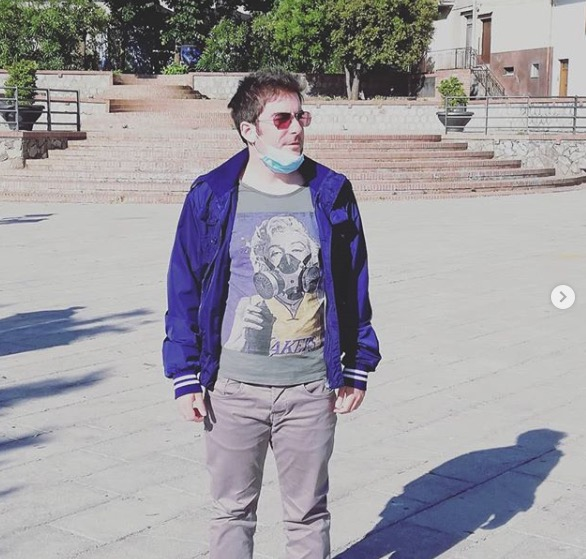mask_weared_incorrect: (262, 112, 308, 174)
